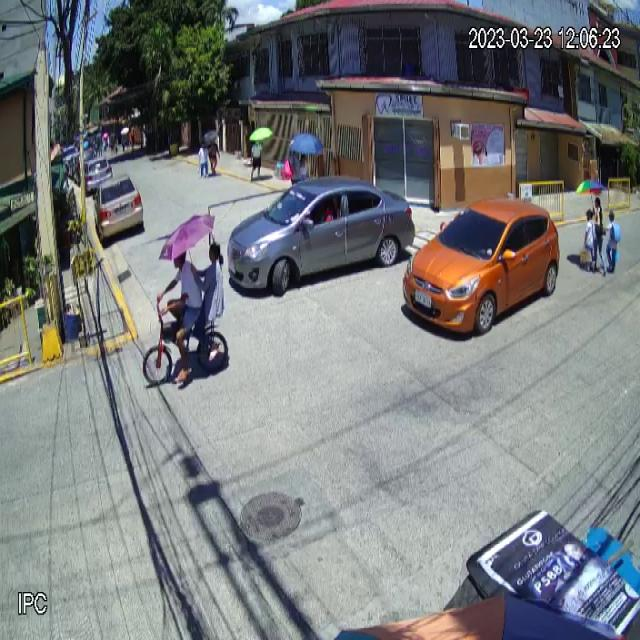Car: (228, 174, 416, 298), (402, 197, 560, 340)
